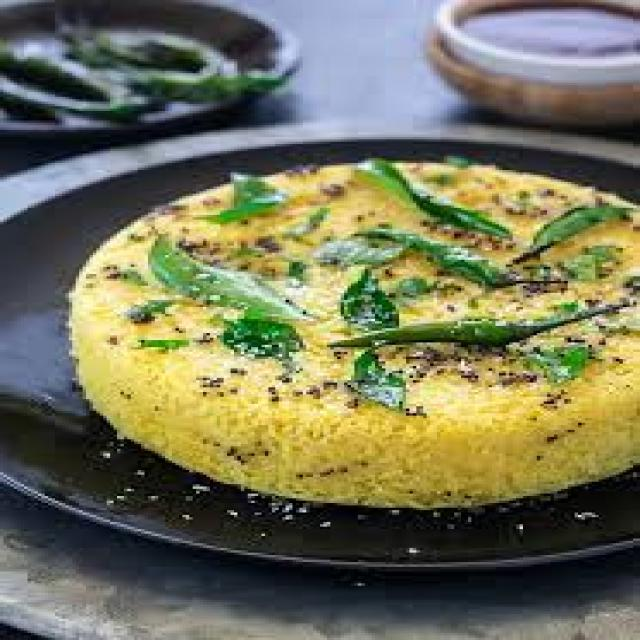DHOKLA: (54, 166, 637, 501)
